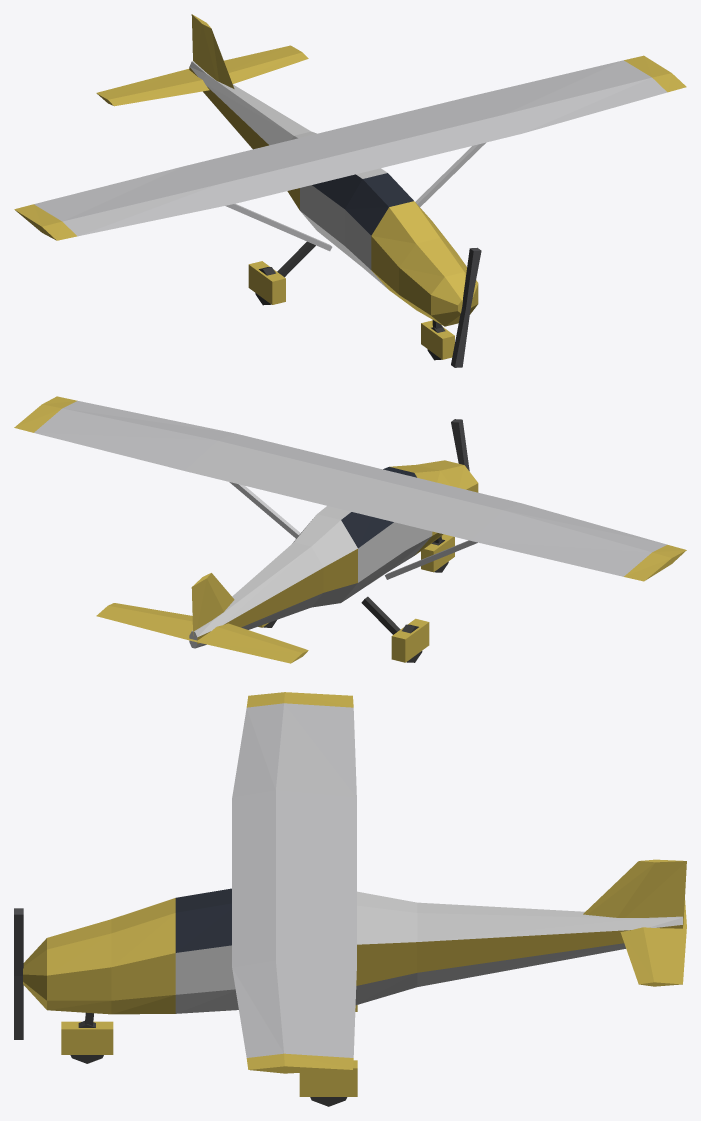
The model's file is avion_cessna_jaune.glb.
3 views of the same model, one above another, from view 1: azimuth 30°, elevation 25°; view 2: azimuth 150°, elevation 25°; view 3: azimuth 270°, elevation 25° (orthographic). The views are drawn at different scales.
Visible parts, largest first — view 1: avion_cessna_jaune; view 2: avion_cessna_jaune; view 3: avion_cessna_jaune.
Part boxes in pixels (<box>): avion_cessna_jaune: <box>14,14,686,367</box>; avion_cessna_jaune: <box>14,396,686,663</box>; avion_cessna_jaune: <box>14,692,686,1106</box>.
Size of the model in its own units: 11 by 2.75 by 8.36.
